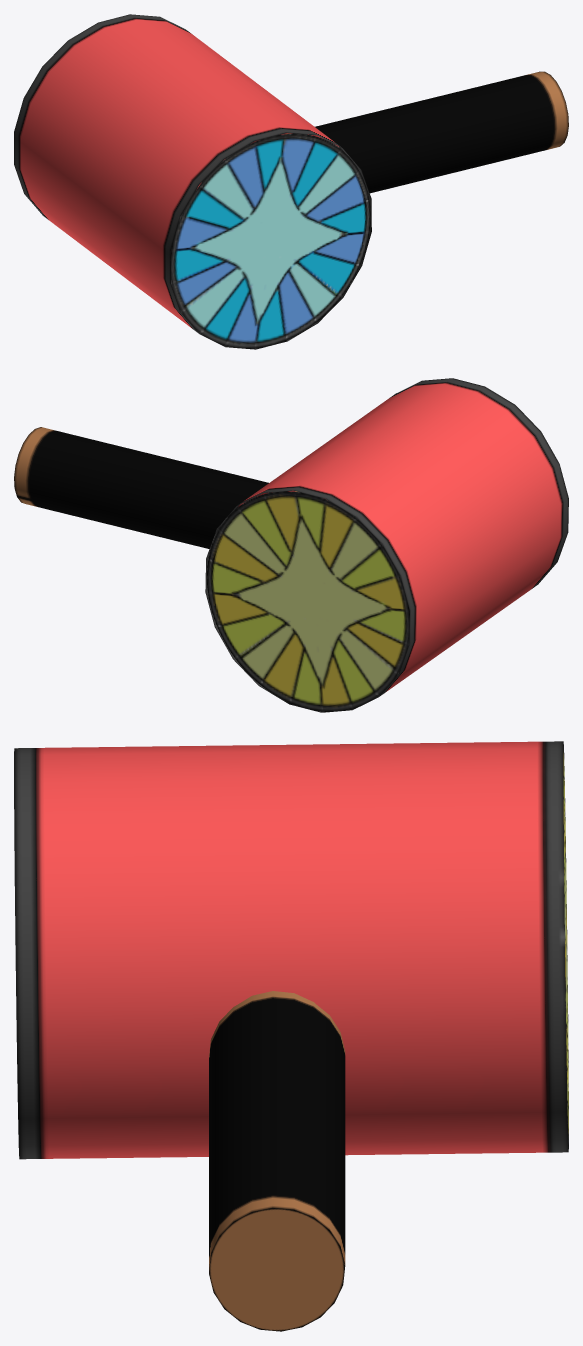
Rendered from Hammer.fbx.
3 renders of one model, top to bottom at view 1: azimuth 30°, elevation 25°; view 2: azimuth 150°, elevation 25°; view 3: azimuth 270°, elevation 25°, orthographic. The views are drawn at different scales.
Visible parts, largest first — view 1: pCylinder1, pCylinder2; view 2: pCylinder1, pCylinder2; view 3: pCylinder1, pCylinder2.
Boxes of the visible parts, box(x1,y1,x2,y2) form: pCylinder1: box(14, 14, 371, 349); pCylinder2: box(285, 71, 568, 193); pCylinder1: box(205, 378, 568, 712); pCylinder2: box(14, 427, 297, 548); pCylinder1: box(14, 741, 568, 1159); pCylinder2: box(209, 991, 345, 1331).
Size of the model in its own units: 4.46 by 2.02 by 2.7.
2 materials, 2 textured.
